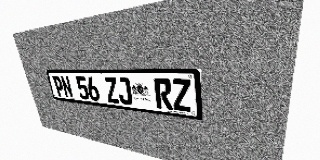5: (75, 76, 90, 100)
6: (85, 77, 100, 101)
J: (116, 77, 133, 105)
N: (60, 76, 74, 98)
P: (52, 76, 65, 97)
R: (154, 78, 173, 110)
Z: (171, 79, 192, 112), (103, 77, 120, 104)
